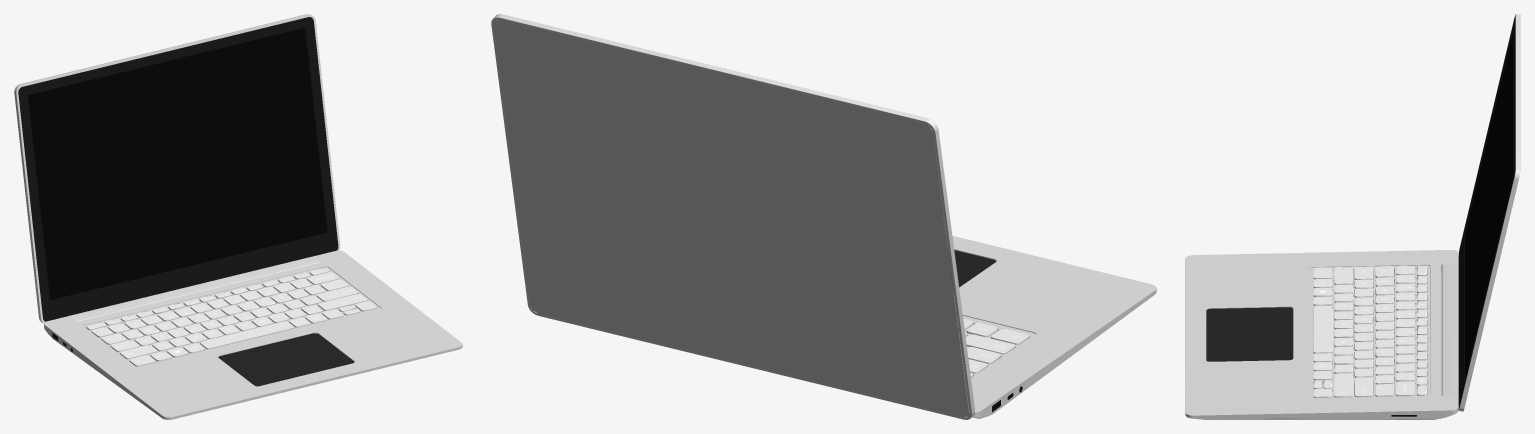
The model's file is laptop.glb.
3 views of the same model, side by side, from view 1: azimuth 30°, elevation 25°; view 2: azimuth 150°, elevation 25°; view 3: azimuth 270°, elevation 25° (orthographic). The views are drawn at different scales.
Visible parts, largest first — view 1: Screen, Modern Slim Laptop, Screen Frame, Keyboard; view 2: Screen Frame, Modern Slim Laptop, Keyboard; view 3: Modern Slim Laptop, Keyboard, Screen, Screen Frame.
Boxes of the visible parts, x1,y1,x2,y2 form: Screen: (28,28,327,299); Modern Slim Laptop: (44,250,462,419); Screen Frame: (14,14,340,323); Keyboard: (86,267,376,366); Screen Frame: (491,14,974,419); Modern Slim Laptop: (946,235,1156,418); Keyboard: (957,319,1029,381); Modern Slim Laptop: (1185,250,1458,419); Keyboard: (1313,265,1427,397); Screen: (1464,33,1512,380); Screen Frame: (1458,14,1520,411).
Size of the model in its own units: 0.33 by 0.2397 by 0.2912.
8 materials, 1 textured.
